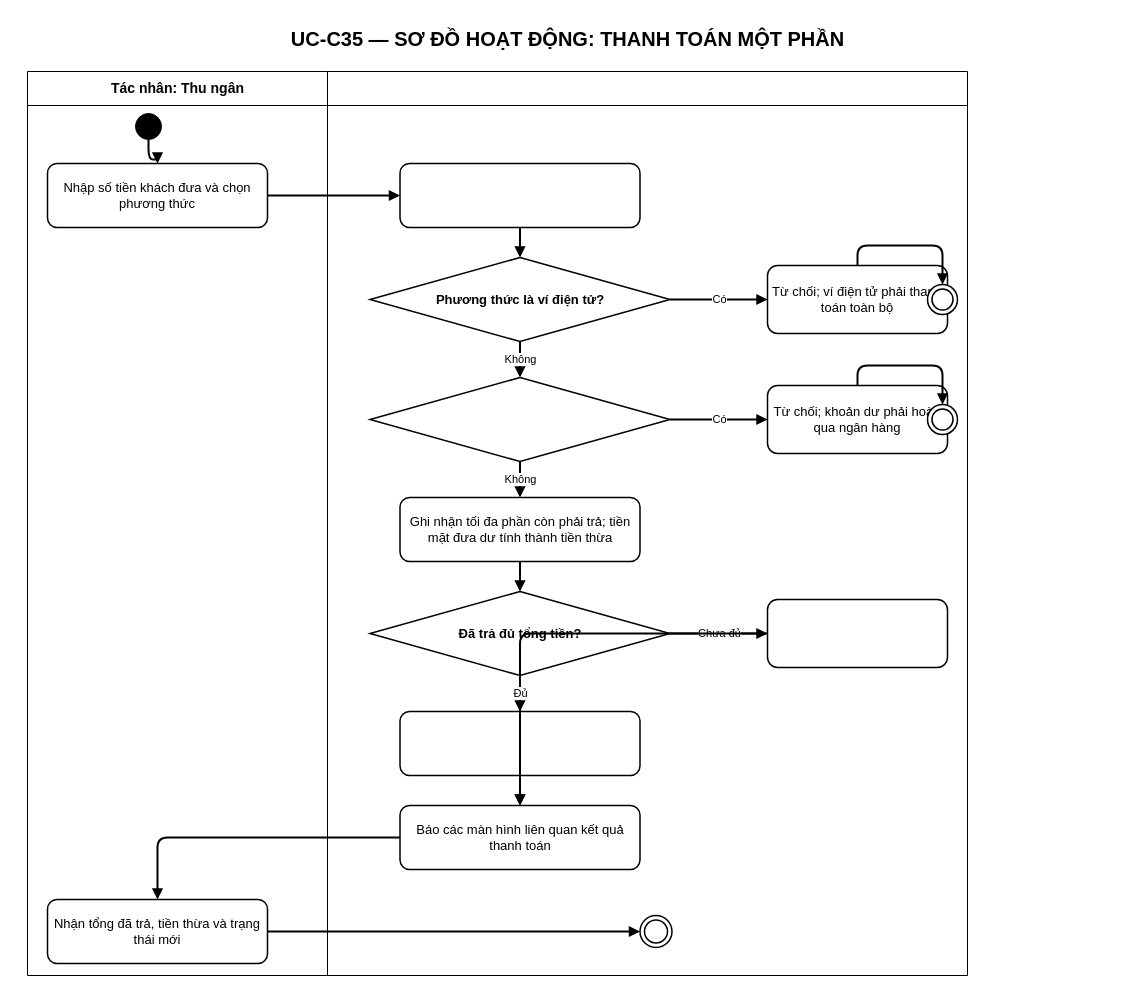
This 1134x993 diagram has some shape labels left out. Each missing label, with the box of its shape:
Chốt hóa đơn đã thanh toán và tự đóng phiên: (399, 710, 640, 776)
Giữ hóa đơn ở mức trả một phần và báo số còn lại: (766, 598, 948, 668)
Hệ thống: (326, 70, 968, 976)
Khóa hóa đơn và kiểm số tiền phải lớn hơn 0: (399, 162, 640, 228)
Trả dư bằng thẻ hoặc chuyển khoản?: (369, 376, 670, 462)
